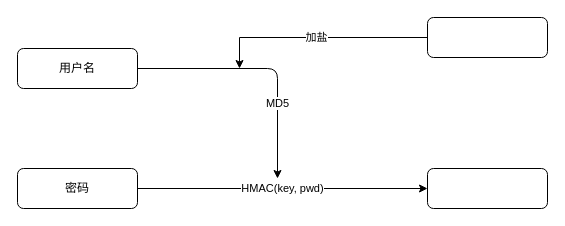
Image size: 565x226. Some labels were removed from this diagram. Each missing label, with the centre of its shape:
"加密后的密码" belongs at pixel 487 188.
"时间戳" belongs at pixel 487 37.
